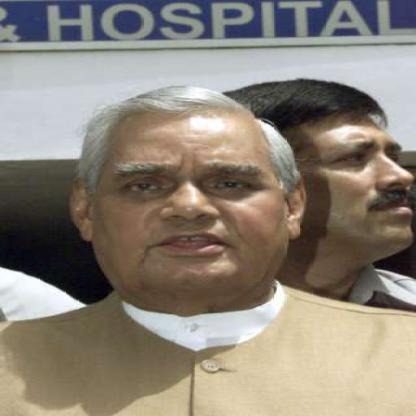face: (82, 93, 294, 299)
